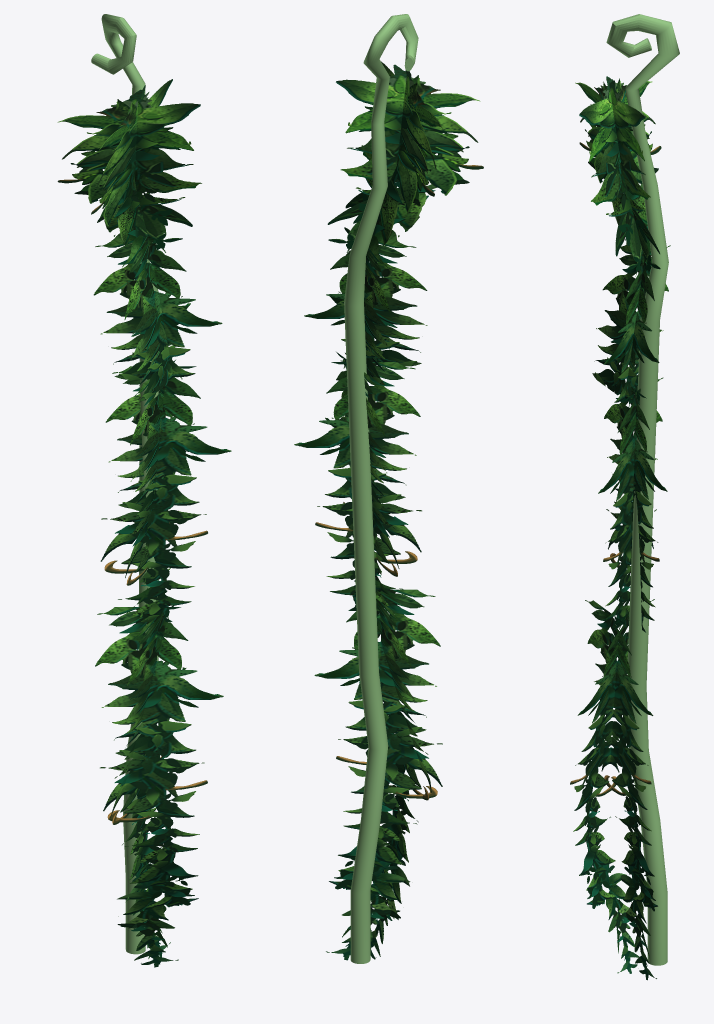
Rendered from vines2-1-1.fbx.
3 renders of one model, left to right at view 1: azimuth 30°, elevation 25°; view 2: azimuth 150°, elevation 25°; view 3: azimuth 270°, elevation 25°, orthographic.
Visible parts, largest first — view 1: polySurface22; view 2: polySurface22; view 3: polySurface22.
Boxes of the visible parts, x1,y1,x2,y2 form: polySurface22: (57,14,231,967); polySurface22: (294,14,483,963); polySurface22: (570,14,679,980).
Size of the model in its own units: 3.16 by 14.59 by 2.07.
